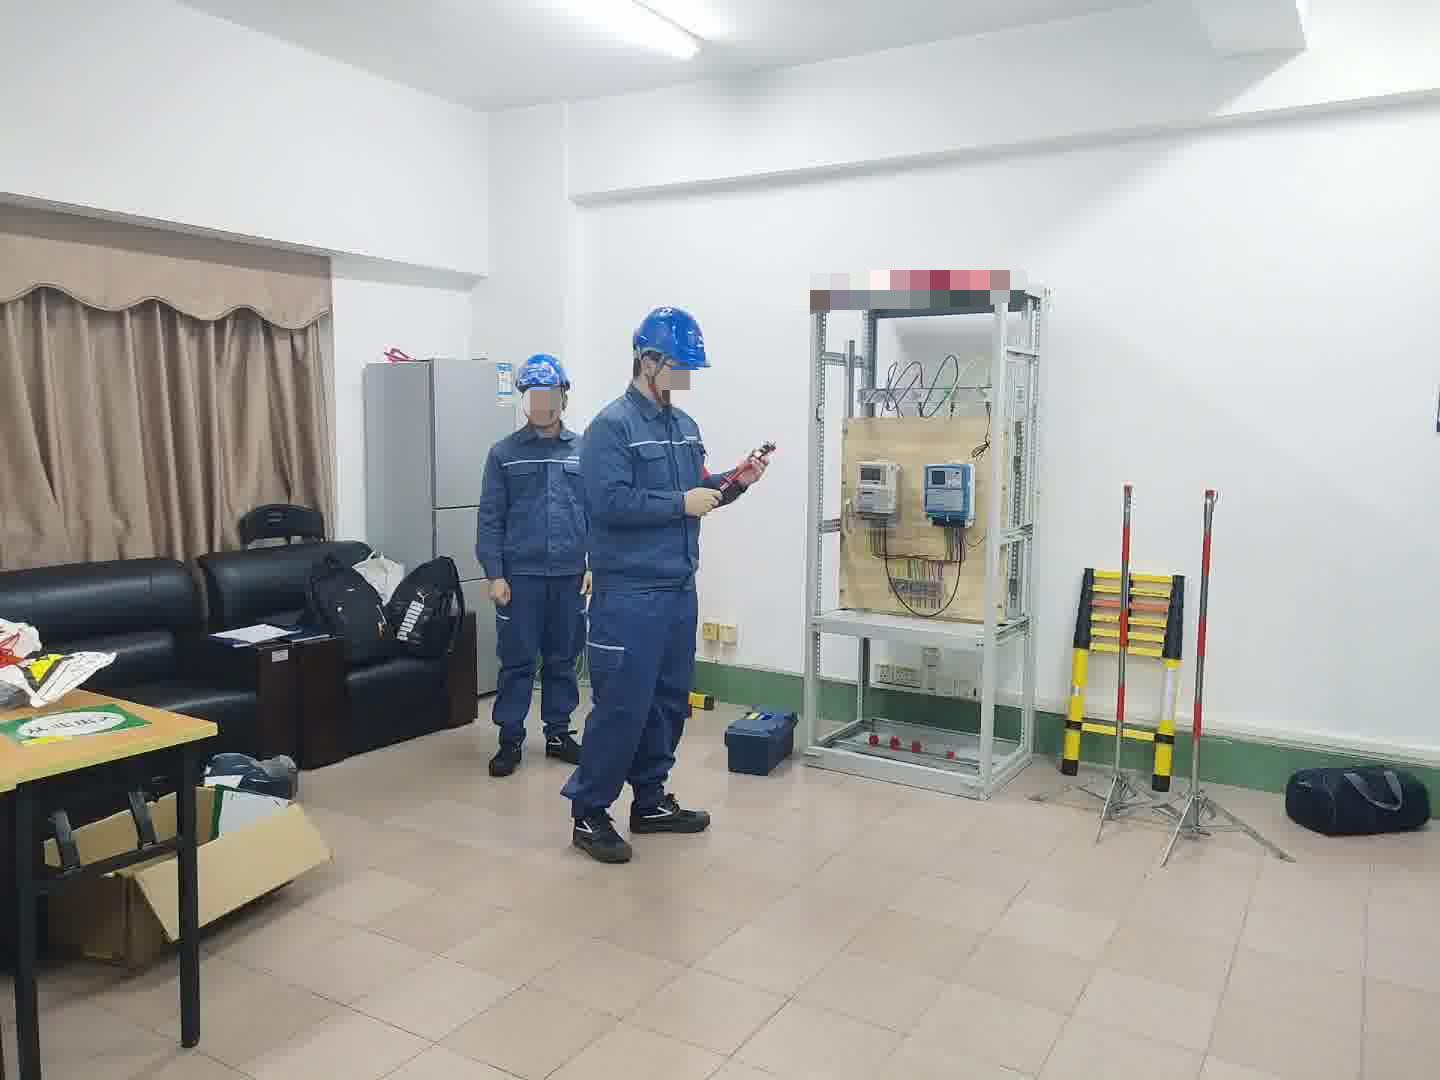halt: (632, 306, 712, 405), (517, 356, 574, 431)
inear: (636, 352, 672, 394)
